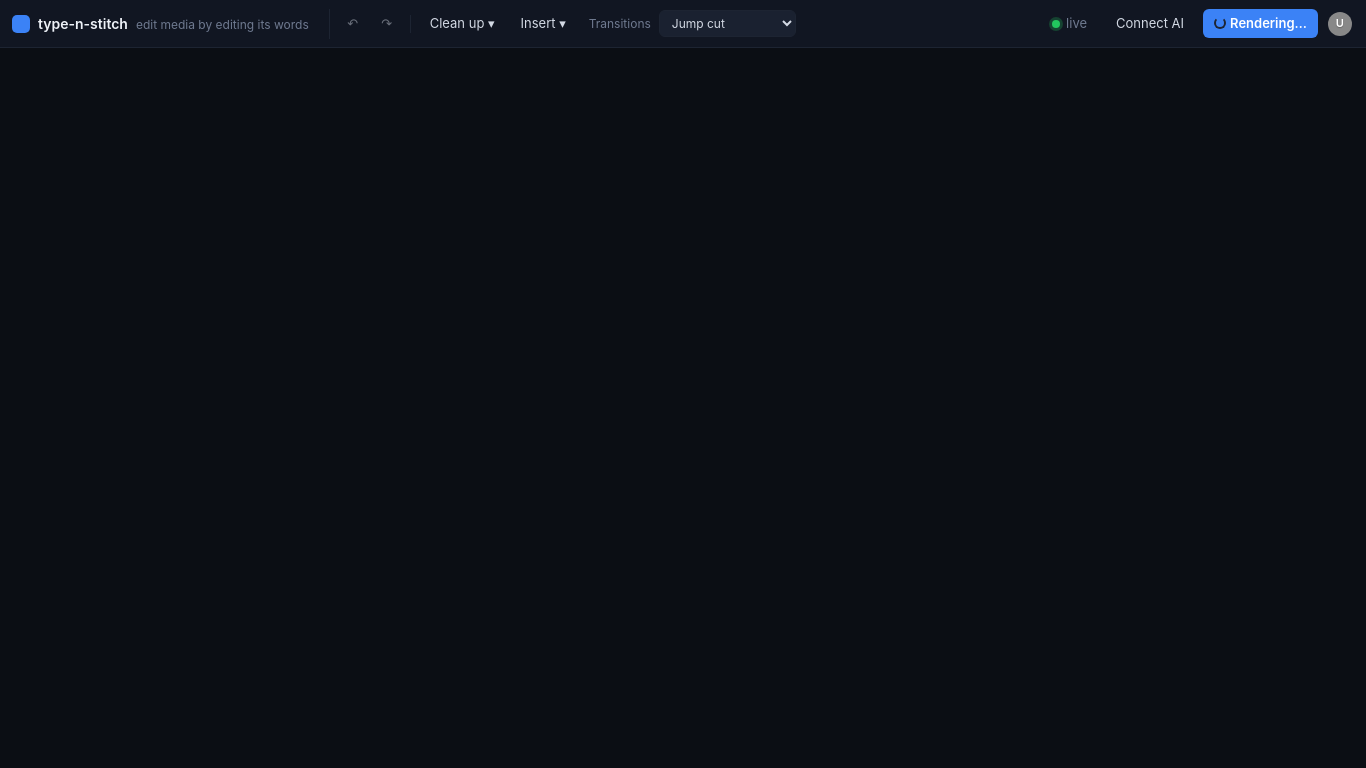
Scenario: Export › keeps the progress reachable after Escape closes it mid-render
Click the button "Rendering…" at (1261, 23), box [1203, 9, 1318, 38]
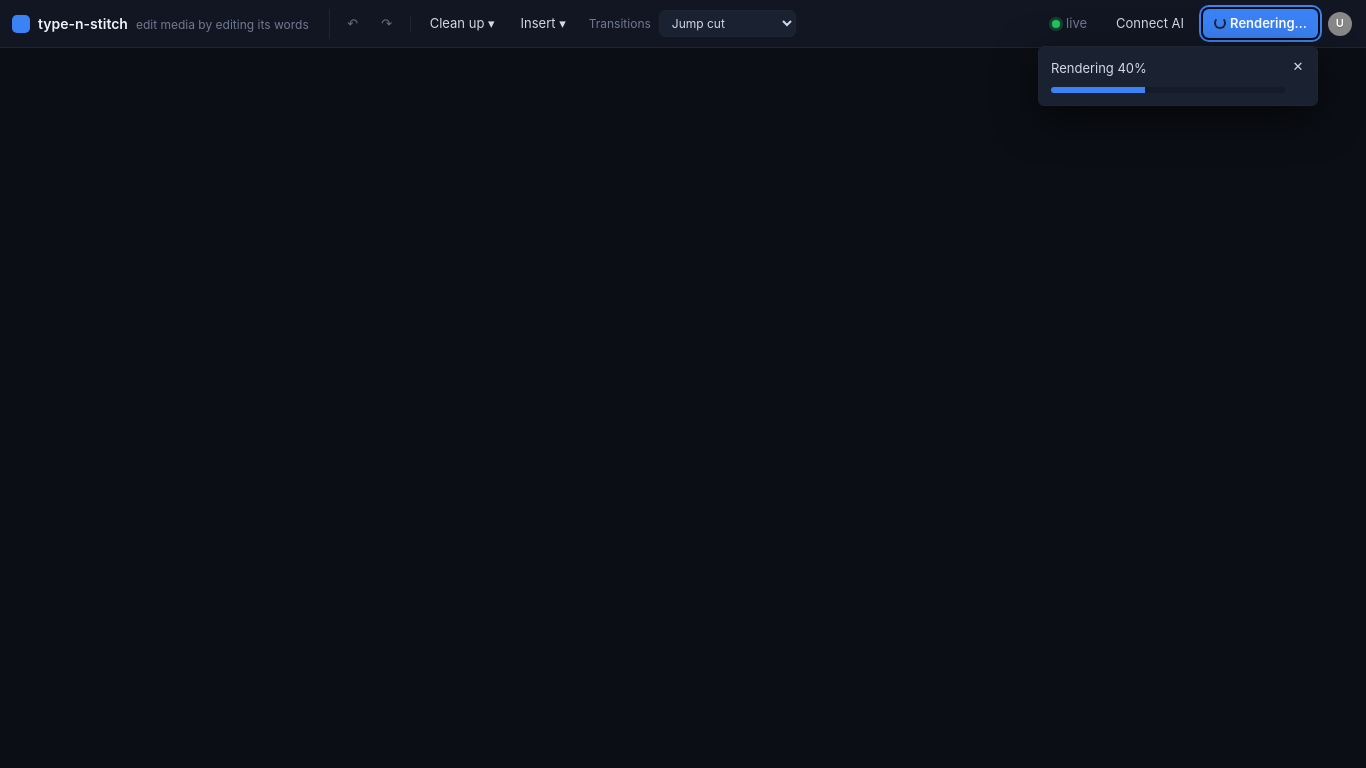
Result: the progress indicator is shown at [1051, 86, 1285, 92]
Press Escape
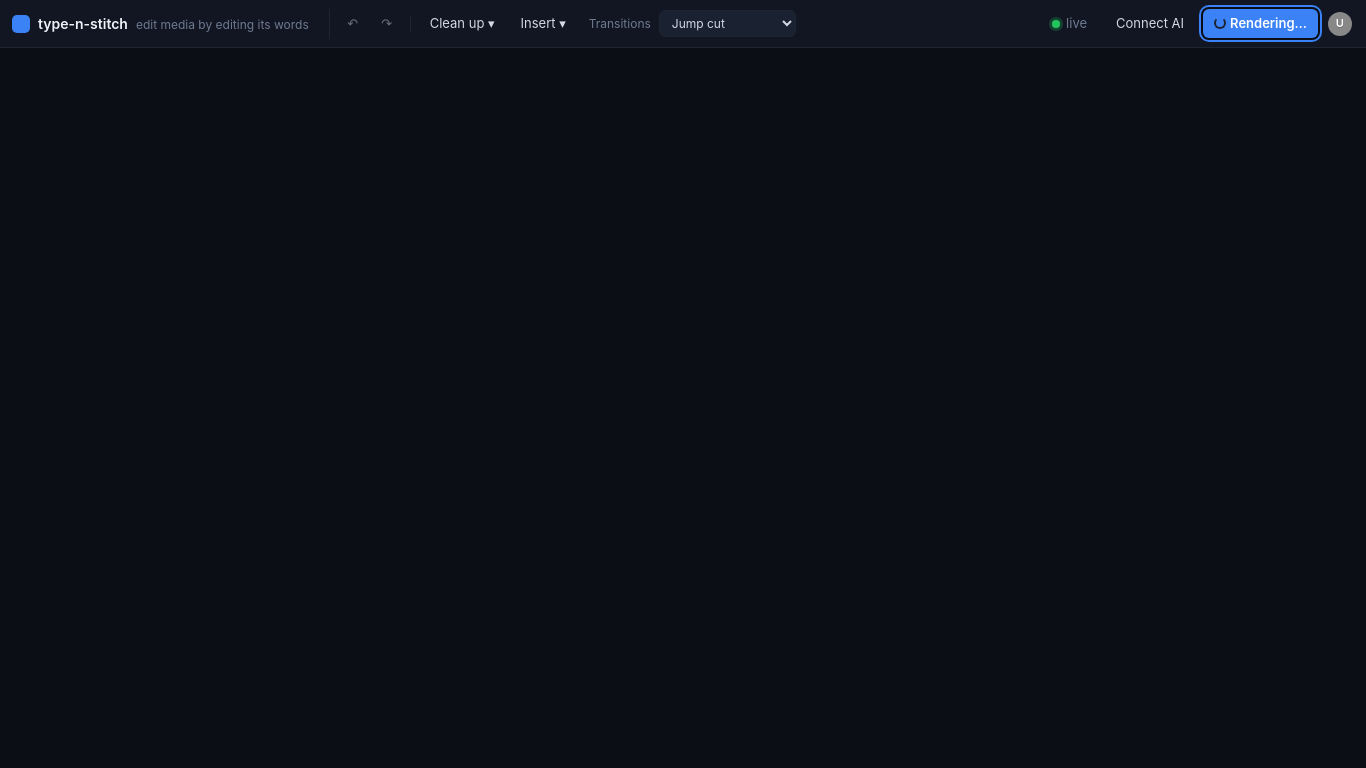
Result: the progress indicator is gone
Click the button "Rendering…" at (1261, 23), box [1203, 9, 1318, 38]
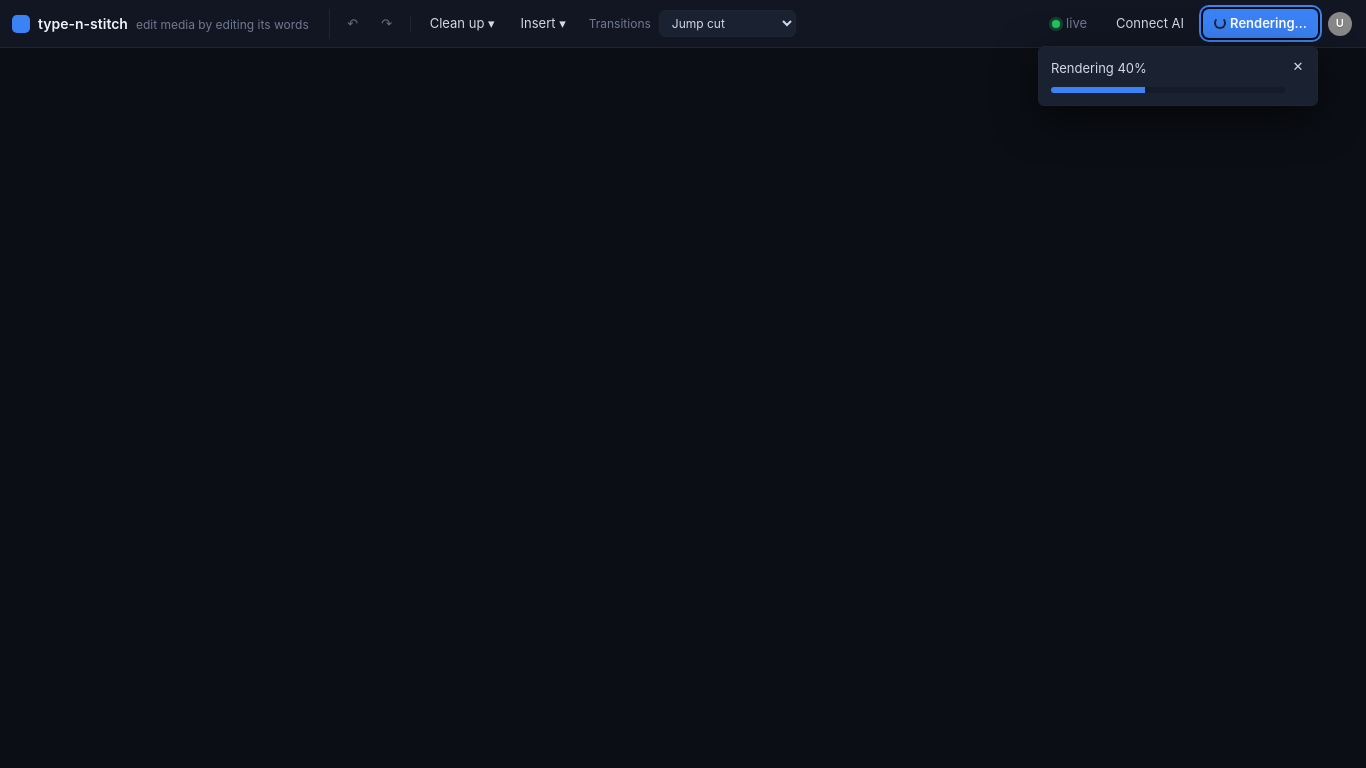
Result: the progress indicator is shown at [1051, 86, 1285, 92]
